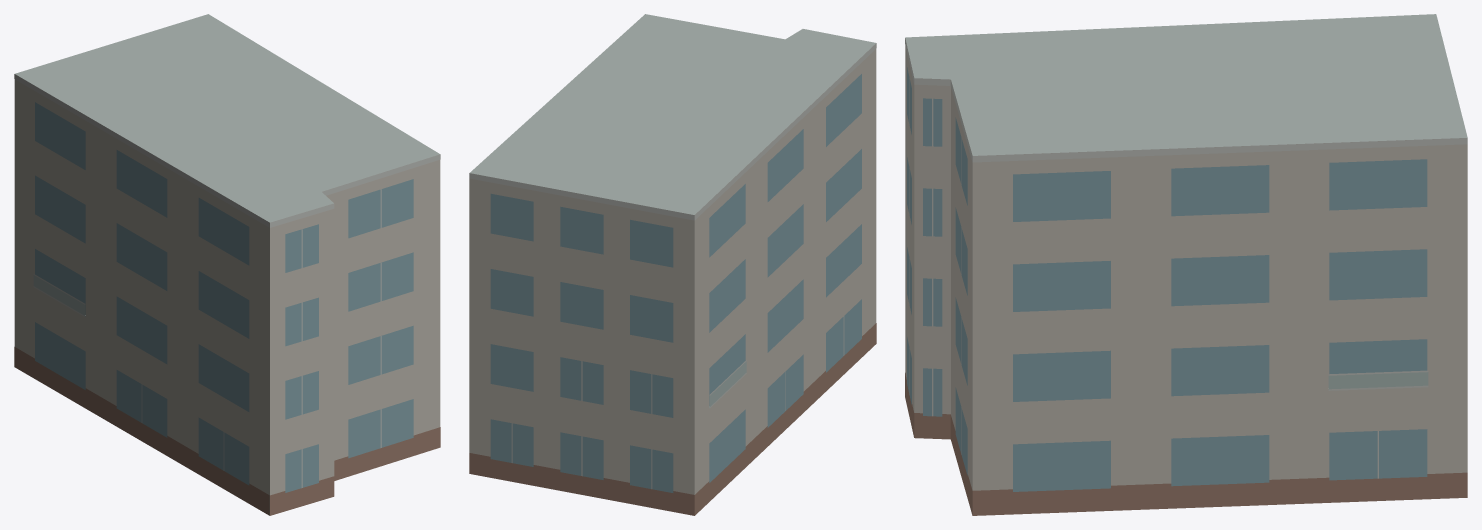
The model's file is survey-upis-32631017.glb.
The picture shows the model from 3 angles, left to right: view 1: azimuth 30°, elevation 25°; view 2: azimuth 150°, elevation 25°; view 3: azimuth 270°, elevation 25°; orthographic projection. The views are drawn at different scales.
Visible parts, largest first — view 1: survey-upis-32631017.tmp; view 2: survey-upis-32631017.tmp; view 3: survey-upis-32631017.tmp.
Part boxes in pixels (left/top/right/bottom): survey-upis-32631017.tmp: left=14, top=14, right=440, bottom=515; survey-upis-32631017.tmp: left=469, top=14, right=876, bottom=515; survey-upis-32631017.tmp: left=905, top=14, right=1467, bottom=515.
Bounding box in the file's own units: 11.43 × 13.5 × 19.14.
